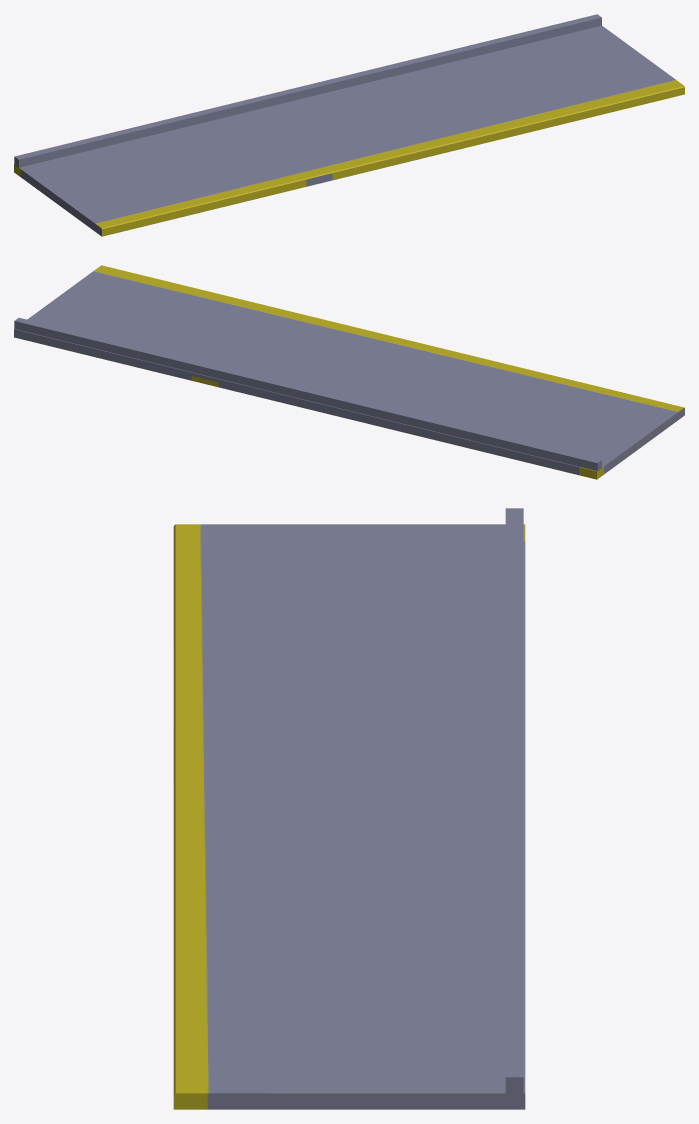
Rendered from trottoir.fbx.
3 renders of one model, top to bottom at view 1: azimuth 30°, elevation 25°; view 2: azimuth 150°, elevation 25°; view 3: azimuth 270°, elevation 25°, orthographic. The views are drawn at different scales.
Parts seen in each view (by area): view 1: plage; view 2: plage; view 3: plage.
Boxes of the visible parts, x1,y1,x2,y2 form: plage: (14,14,684,236); plage: (14,265,684,479); plage: (173,508,525,1109).
Size of the model in its own units: 14886 by 395 by 3888.
1 material, 1 textured.
